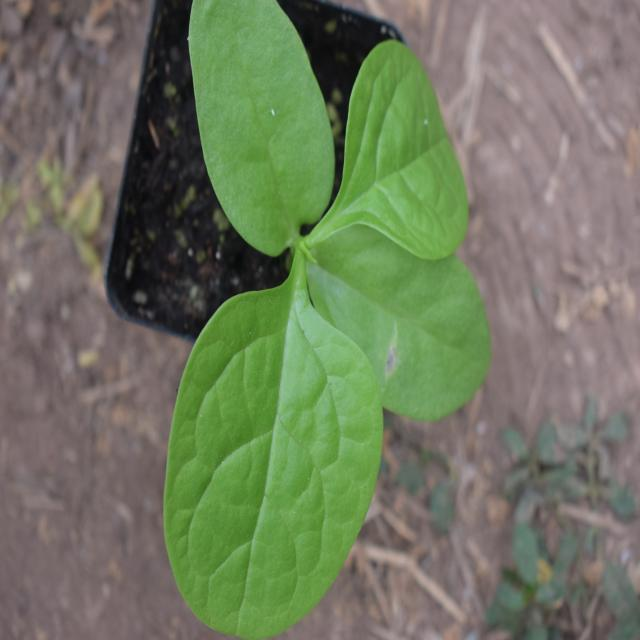Ceylon spinach: (172, 0, 489, 612)
